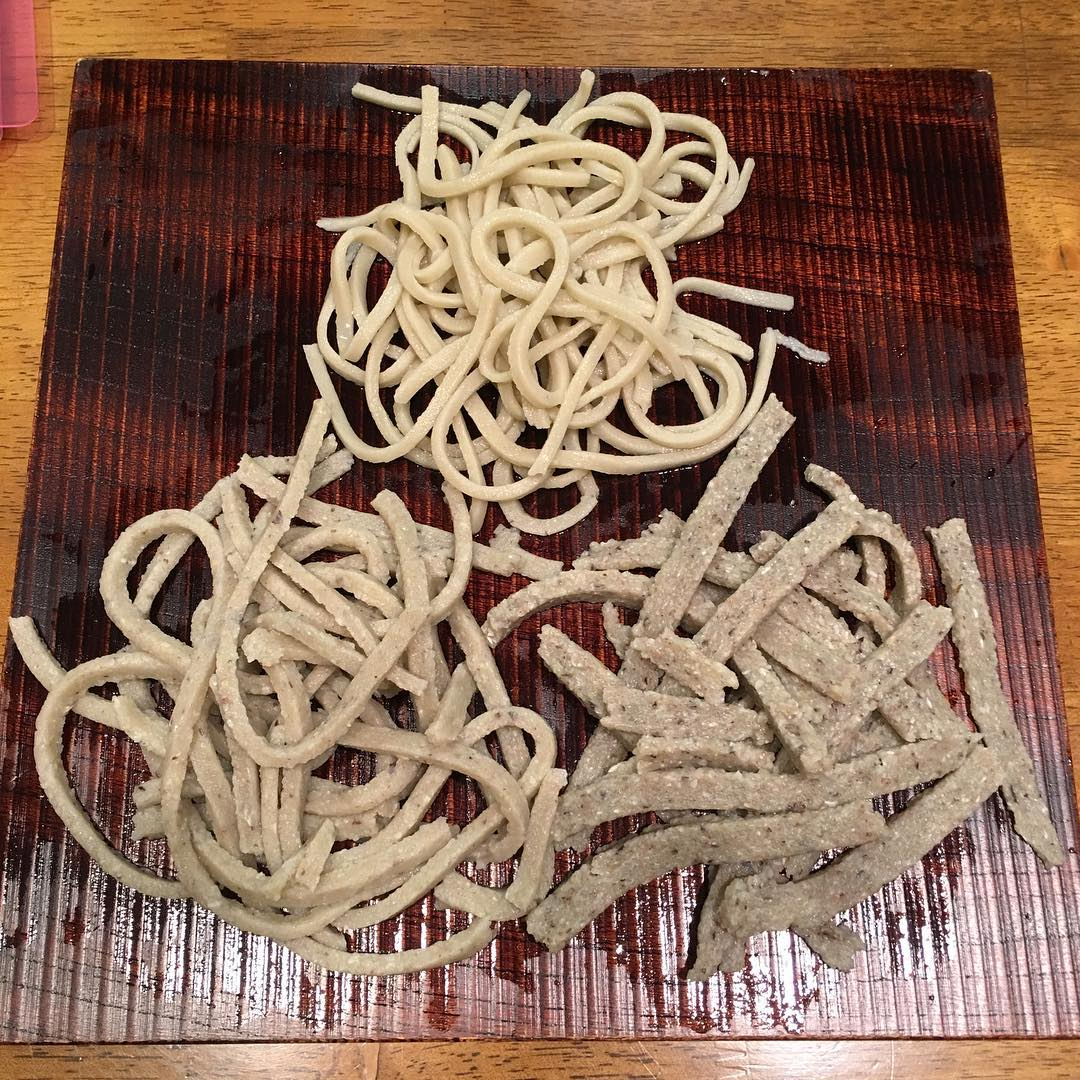Soba: (62, 426, 552, 985), (346, 58, 759, 482)
